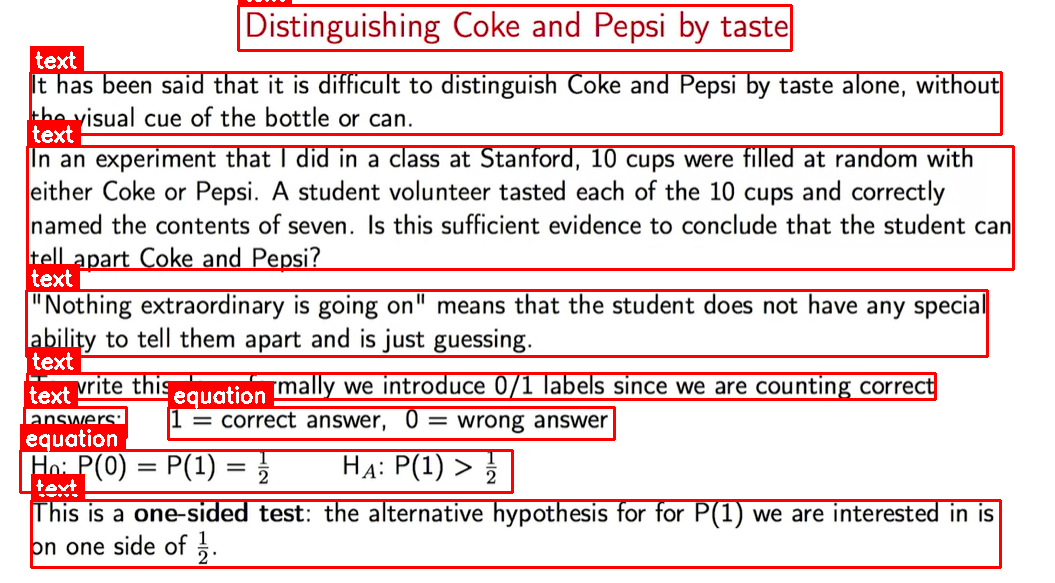equation: (20, 450, 512, 492), (168, 407, 614, 439)
text: (27, 146, 1013, 269), (31, 500, 1000, 567), (26, 290, 987, 356), (30, 72, 1001, 134), (238, 5, 791, 50), (27, 373, 935, 399), (24, 407, 126, 437)
